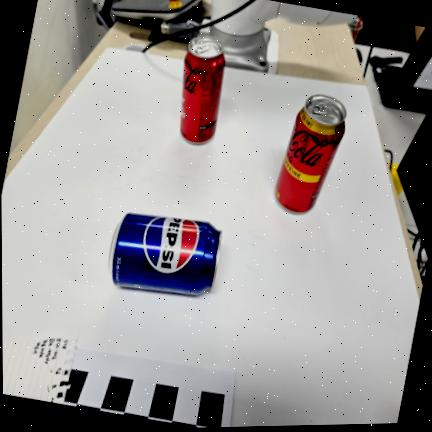can_coke_decaf: (273, 94, 345, 215)
can_coke_zero: (179, 37, 226, 141)
can_pepsi: (108, 213, 223, 297)
